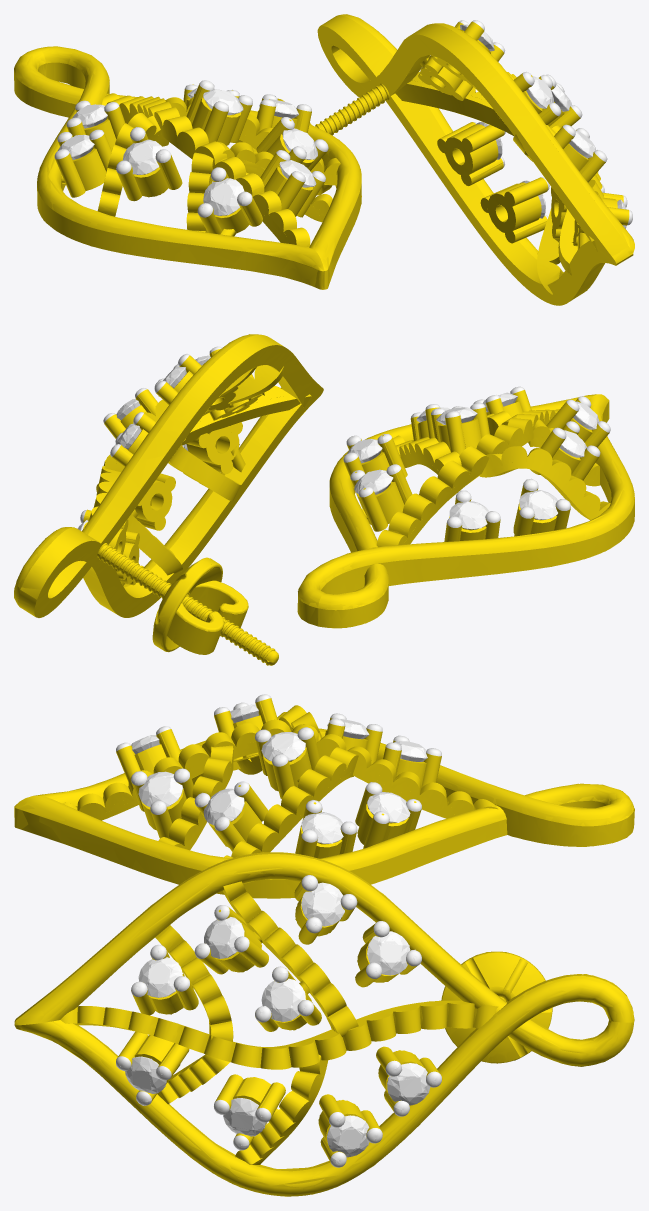
The picture shows the model from 3 angles, top to bottom: view 1: azimuth 30°, elevation 25°; view 2: azimuth 150°, elevation 25°; view 3: azimuth 270°, elevation 25°; orthographic projection. The views are drawn at different scales.
Visible parts, largest first — view 1: highPolyMesh, lowPolyMesh; view 2: highPolyMesh, lowPolyMesh; view 3: highPolyMesh, lowPolyMesh.
Boxes of the visible parts, x1,y1,x2,y2 form: highPolyMesh: (14, 14, 634, 305); lowPolyMesh: (14, 14, 633, 303); highPolyMesh: (14, 334, 634, 665); lowPolyMesh: (14, 334, 634, 665); highPolyMesh: (14, 694, 633, 1196); lowPolyMesh: (14, 694, 634, 1196).
Bounding box in the file's own units: 0.0235 × 0.0119 × 0.0223.
